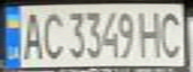3: (81, 7, 106, 58), (63, 7, 87, 60)
4: (100, 7, 121, 58)
9: (115, 8, 139, 60)
A: (18, 8, 45, 61)
C: (157, 7, 187, 60), (39, 7, 66, 61)
H: (136, 7, 166, 60)
